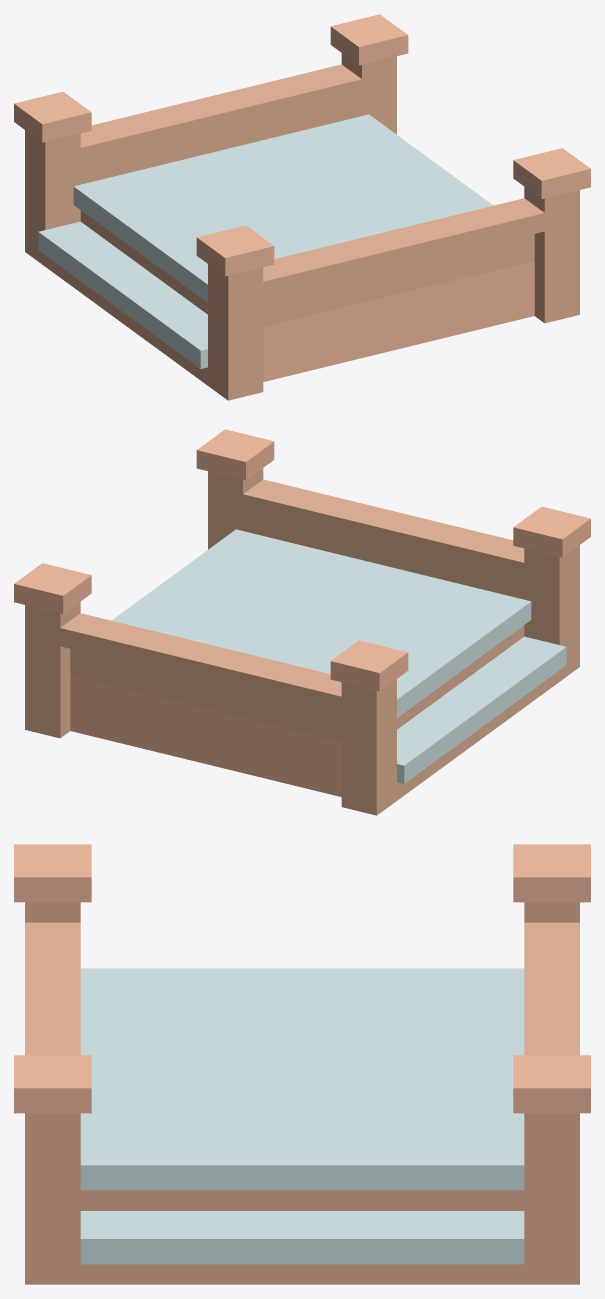
The model's file is bridge-wood.glb.
3 views of the same model, one above another, from view 1: azimuth 30°, elevation 25°; view 2: azimuth 150°, elevation 25°; view 3: azimuth 270°, elevation 25° (orthographic). The views are drawn at different scales.
Parts seen in each view (by area): view 1: bridge_wood; view 2: bridge_wood; view 3: bridge_wood.
Boxes of the visible parts, <box> form: bridge_wood: <box>14,14,590,400</box>; bridge_wood: <box>14,429,590,815</box>; bridge_wood: <box>14,844,590,1284</box>.
Bounding box in the file's own units: 1.04 × 0.4 × 1.04.
